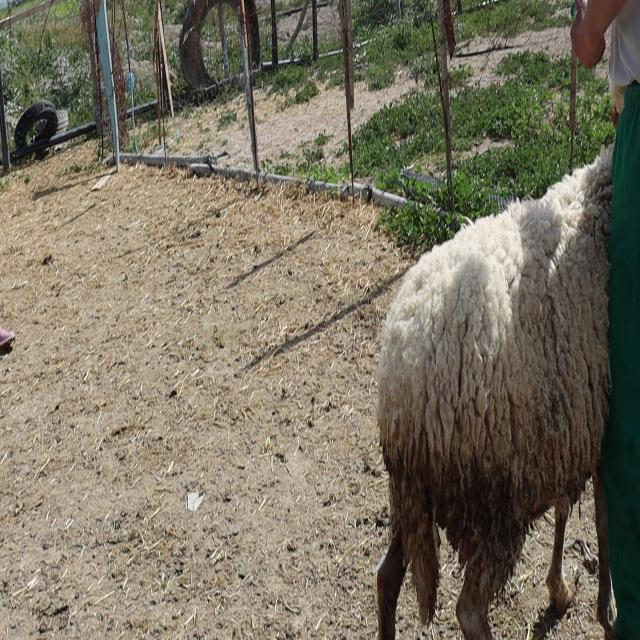Score_4: (374, 147, 615, 639)
